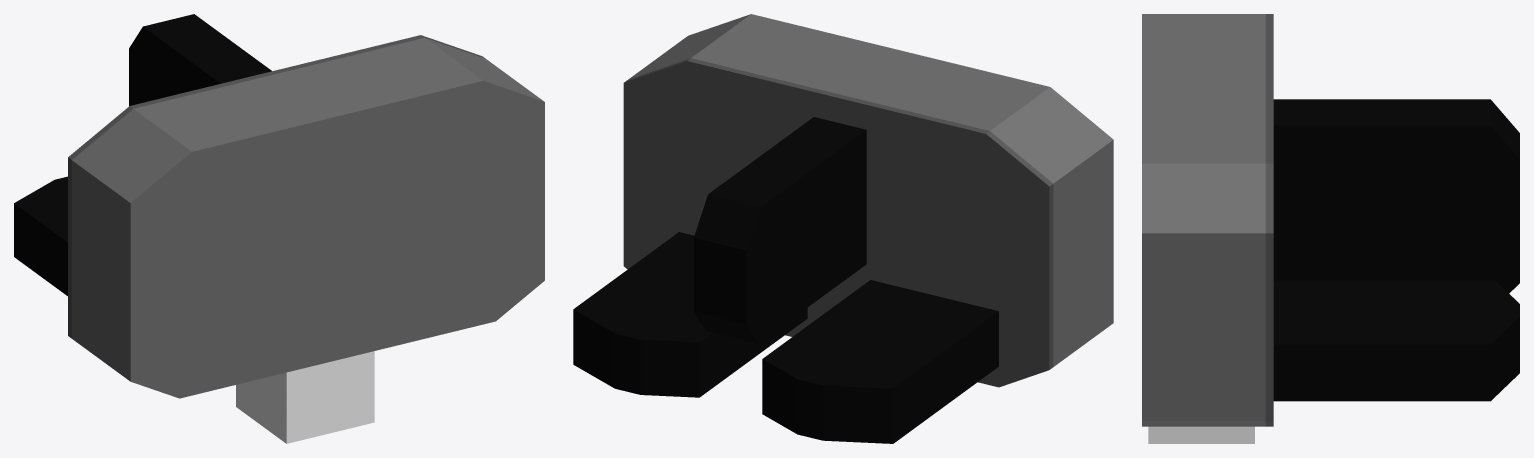
File: 充电器5.fbx
3 renders of one model, left to right at view 1: azimuth 30°, elevation 25°; view 2: azimuth 150°, elevation 25°; view 3: azimuth 270°, elevation 25°, orthographic. The views are drawn at different scales.
Visible parts, largest first — view 1: 立方体.001; view 2: 立方体.001; view 3: 立方体.001.
Part boxes in pixels (x1,y1,x2,y2): 立方体.001: (14,14,544,443); 立方体.001: (573,14,1113,443); 立方体.001: (1142,14,1519,443).
Bounding box in the file's own units: 467 × 343 × 350.
1 material, 1 textured.
